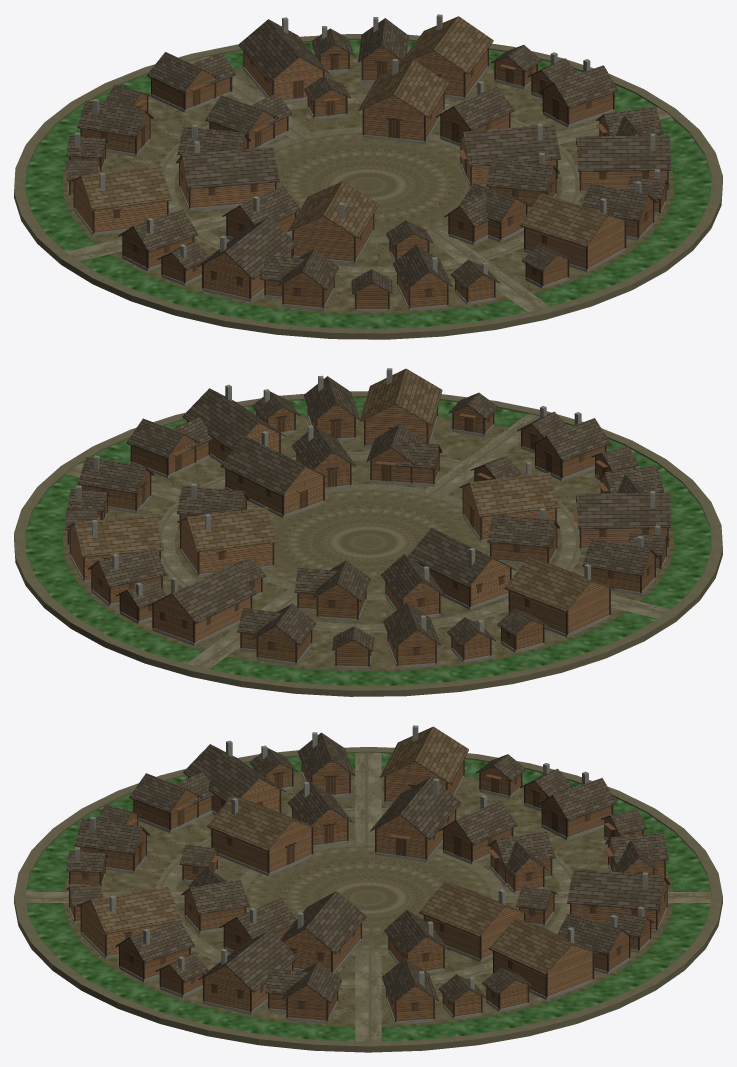
File: village_large_lod0.glb
3 renders of one model, top to bottom at view 1: azimuth 30°, elevation 25°; view 2: azimuth 150°, elevation 25°; view 3: azimuth 270°, elevation 25°, orthographic.
Visible parts, largest first — view 1: ae_forest_village_large_lod0; view 2: ae_forest_village_large_lod0; view 3: ae_forest_village_large_lod0.
Part boxes in pixels (bbox=[...]): ae_forest_village_large_lod0: bbox=[14, 14, 722, 339]; ae_forest_village_large_lod0: bbox=[14, 368, 722, 696]; ae_forest_village_large_lod0: bbox=[14, 725, 722, 1052].
Bounding box in the file's own units: 1.9 × 0.1715 × 1.9.
1 material, 1 textured.
